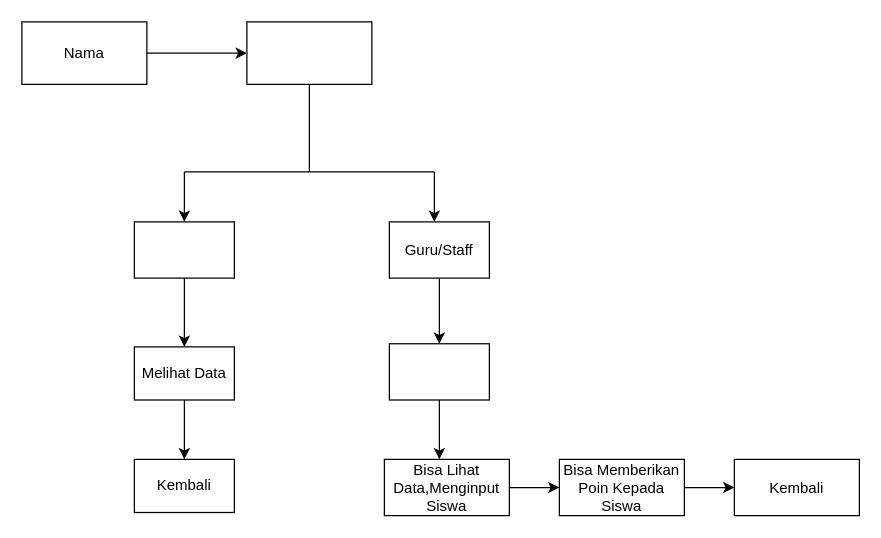
This 881x538 diagram has some shape labels left out. Each missing label, with the centre of its shape:
"Keanggotaan" belongs at pixel 309 52.
"Login" belongs at pixel 438 371.
"Siswa" belongs at pixel 183 249.
